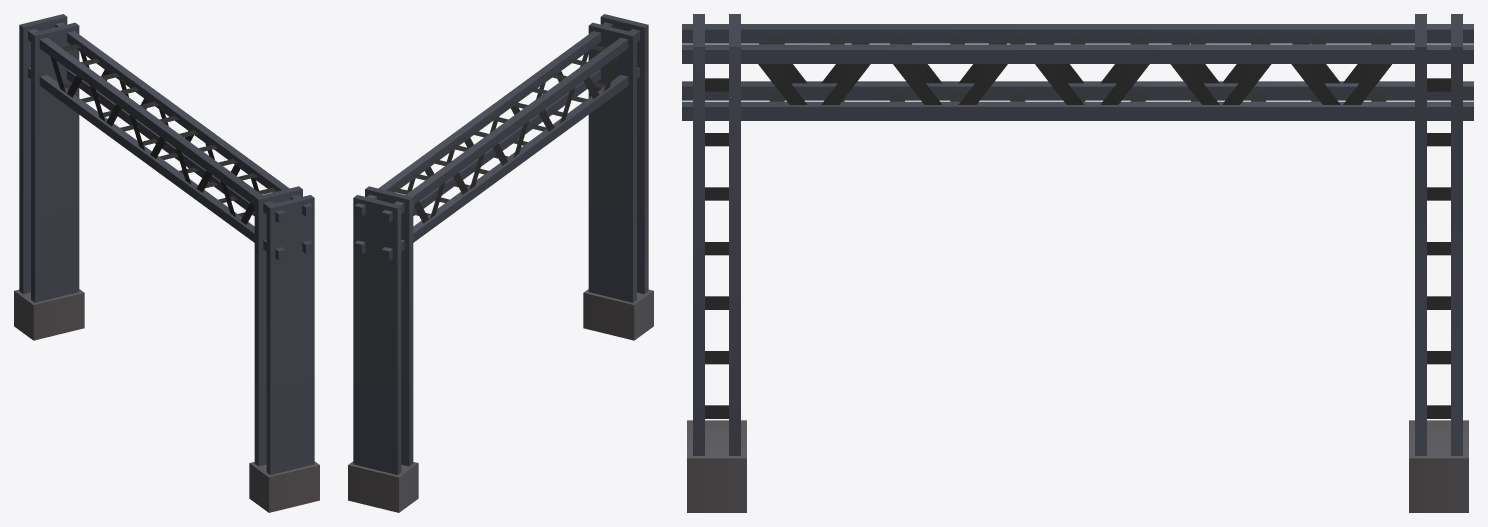
The model's file is SM_Street_Board_3.FBX.
3 views of the same model, side by side, from view 1: azimuth 30°, elevation 25°; view 2: azimuth 150°, elevation 25°; view 3: azimuth 270°, elevation 25° (orthographic). The views are drawn at different scales.
Parts seen in each view (by area): view 1: SM_Street_Board_3; view 2: SM_Street_Board_3; view 3: SM_Street_Board_3.
Boxes of the visible parts, <box> form: SM_Street_Board_3: <box>14,14,319,512</box>; SM_Street_Board_3: <box>348,14,653,512</box>; SM_Street_Board_3: <box>682,14,1473,512</box>.
Size of what is drawn, in the model's own units: 150 by 1316 by 850.
